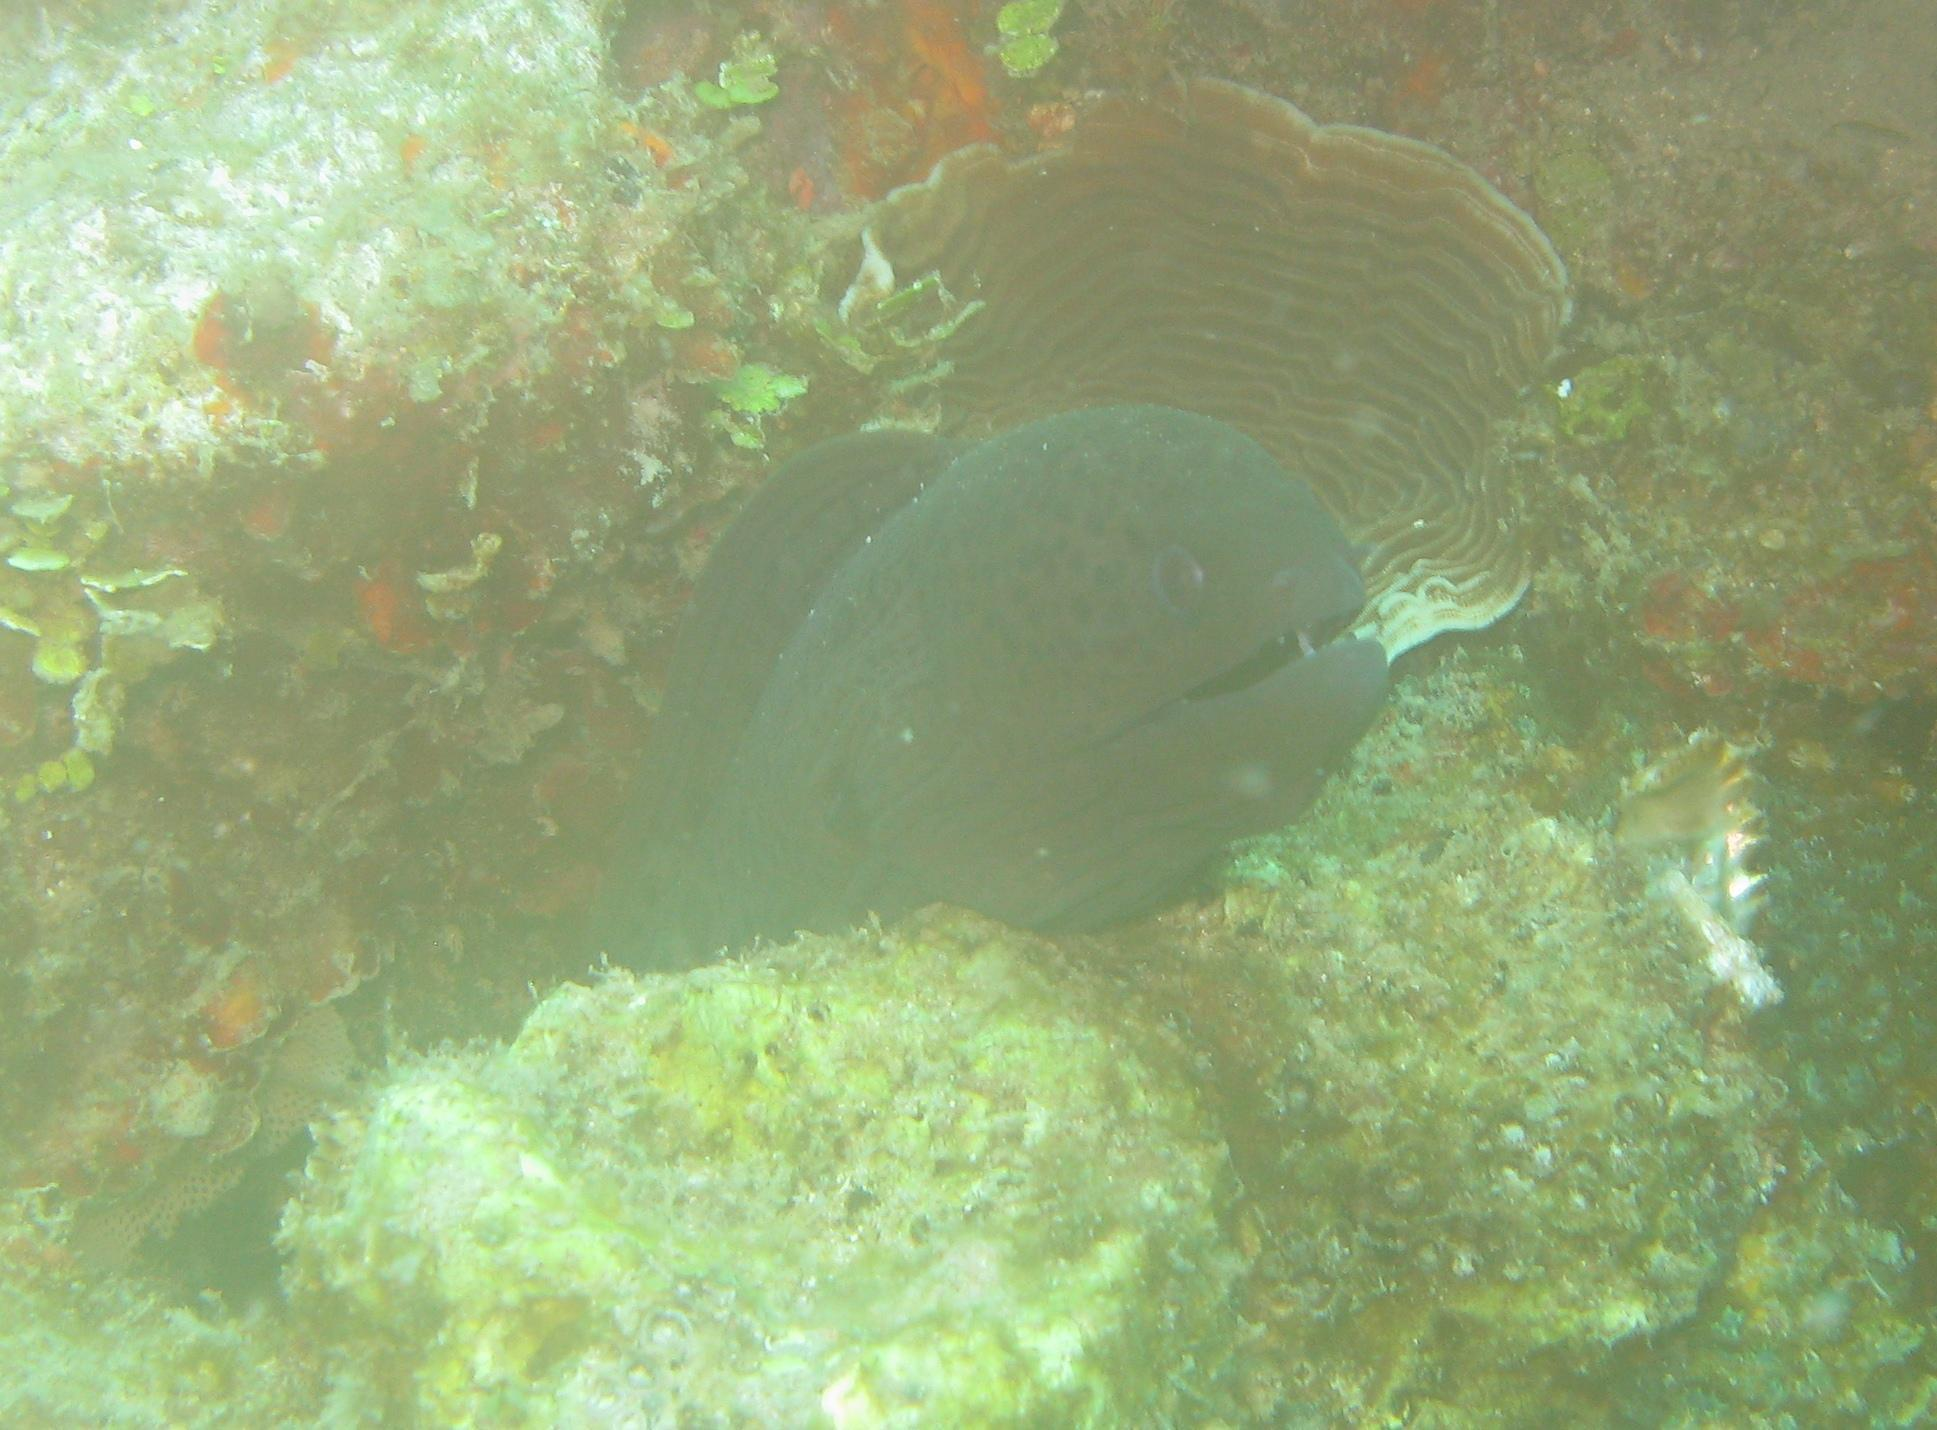Fish: (426, 380, 1408, 1108)
